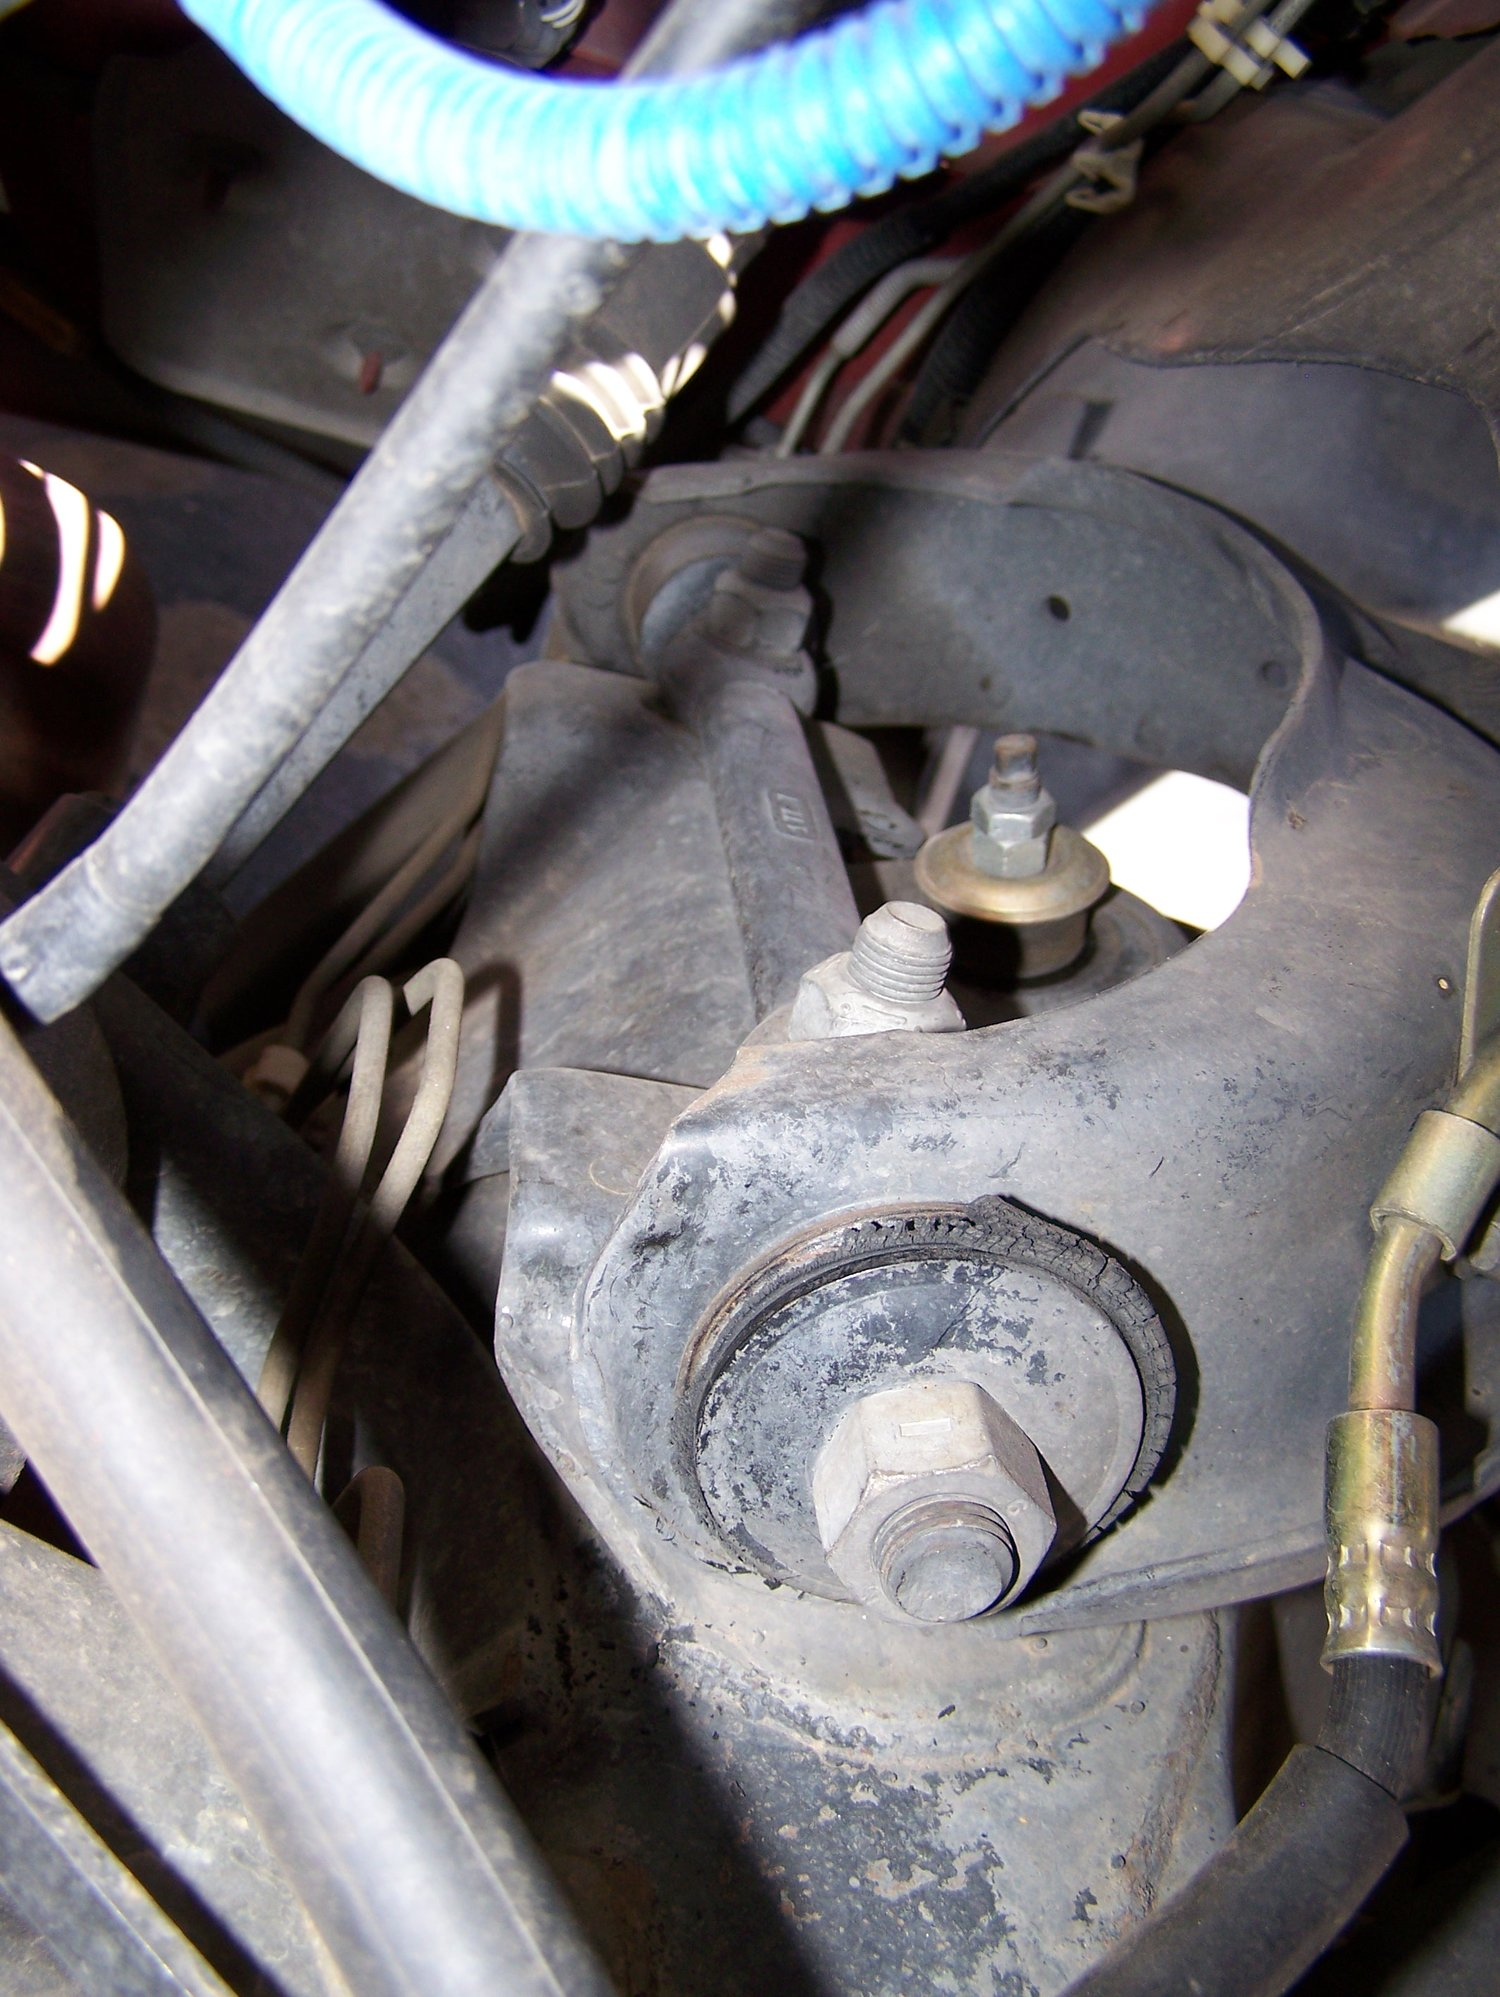bolt_b: (807, 1373, 1070, 1636)
bolt_c: (783, 943, 982, 1076), (703, 562, 816, 660), (964, 776, 1064, 839)
